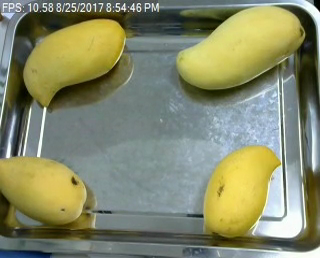Mango: (174, 5, 305, 93), (21, 15, 126, 109), (198, 144, 283, 240), (0, 151, 88, 226)
